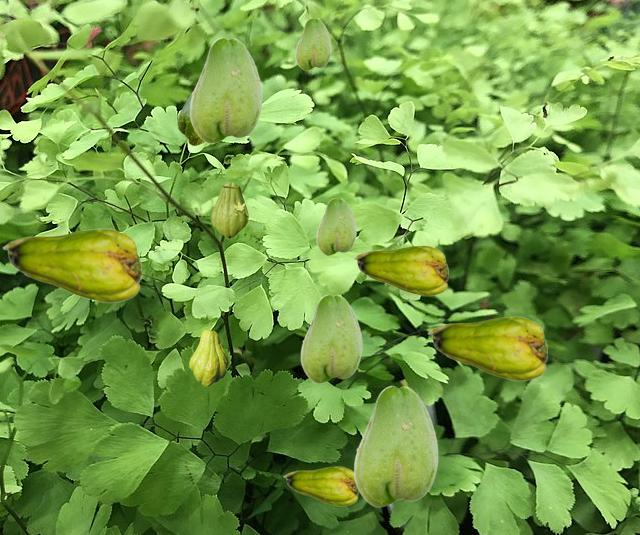sayote: (2, 228, 140, 302), (353, 385, 437, 506), (427, 316, 546, 380), (189, 37, 261, 142), (300, 294, 361, 382), (353, 245, 447, 295), (283, 466, 357, 505), (189, 323, 227, 385), (211, 182, 251, 238), (316, 198, 355, 254), (295, 18, 330, 69), (176, 94, 204, 145)
